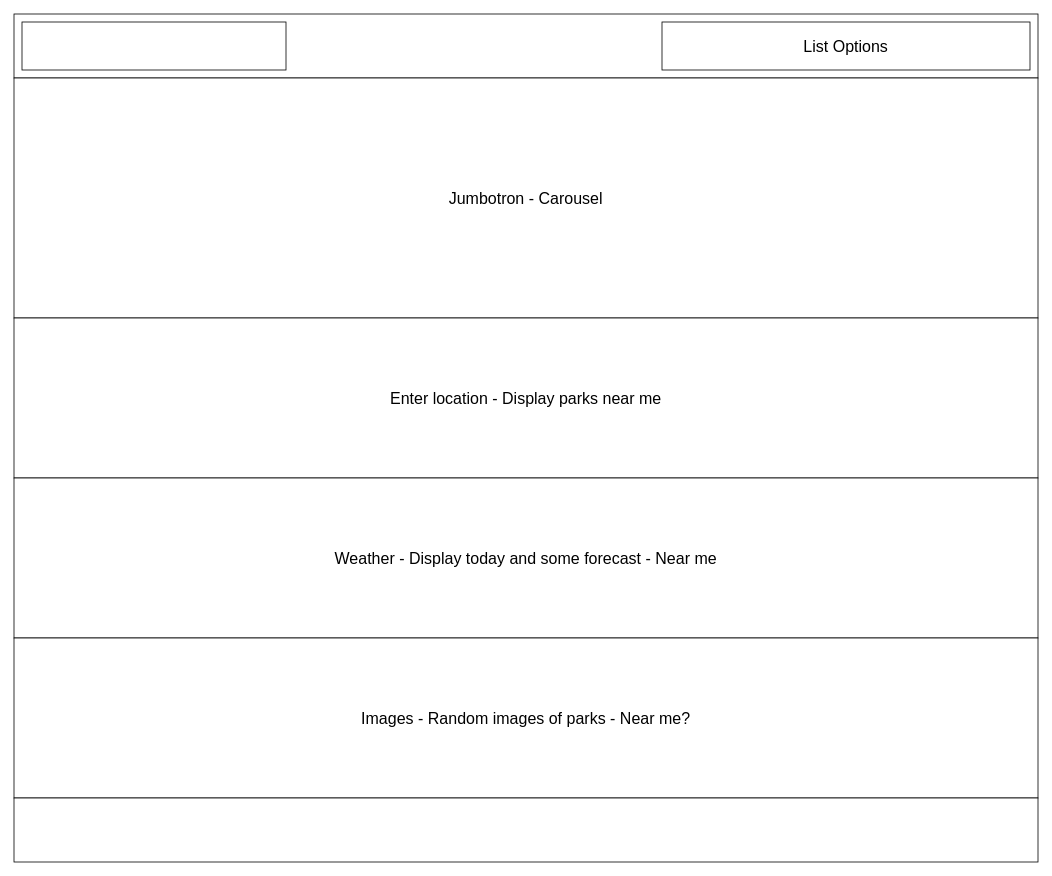
The diagram is 1052 pixels wide and 876 high, and some of its shapes have lost their labels. The shapes that lost their labels are listed below. From the top down, each one's centre as x and y in pixels, then its label:
At (x=153, y=45): "Title".
At (x=525, y=829): "Footer".
